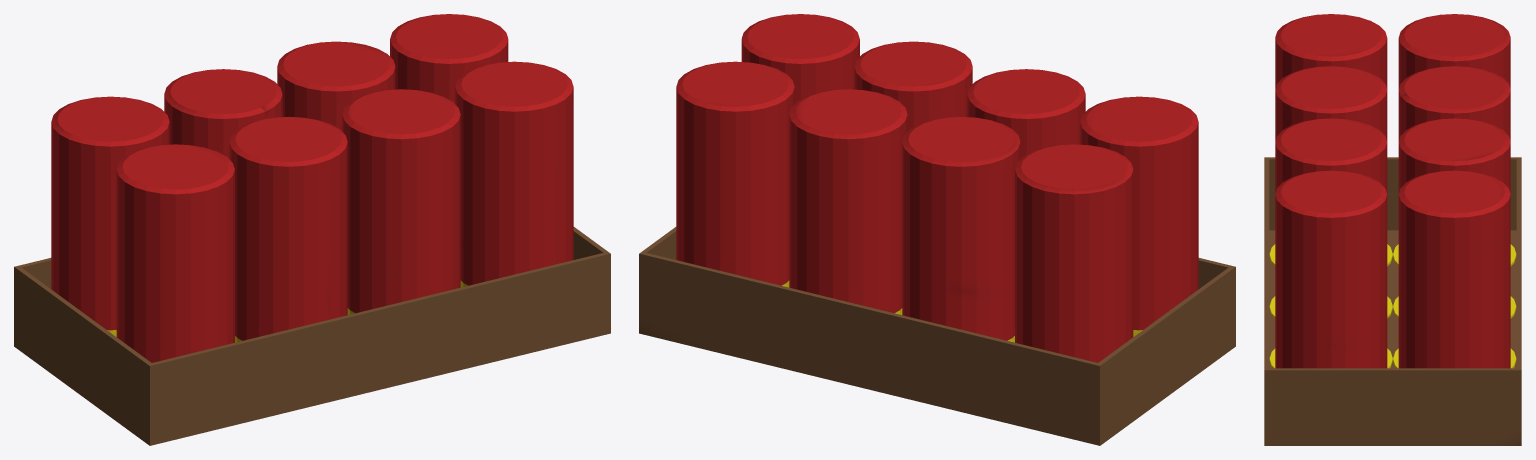
File: ammo_shotgun.fbx
3 views of the same model, side by side, from view 1: azimuth 30°, elevation 25°; view 2: azimuth 150°, elevation 25°; view 3: azimuth 270°, elevation 25° (orthographic). The views are drawn at different scales.
Parts seen in each view (by area): view 1: Body; view 2: Body; view 3: Body.
Boxes of the visible parts, <box> form: Body: <box>14,14,610,445</box>; Body: <box>639,14,1235,445</box>; Body: <box>1264,14,1521,445</box>.
Size of the model in its own units: 0.396 by 0.1957 by 0.202.
